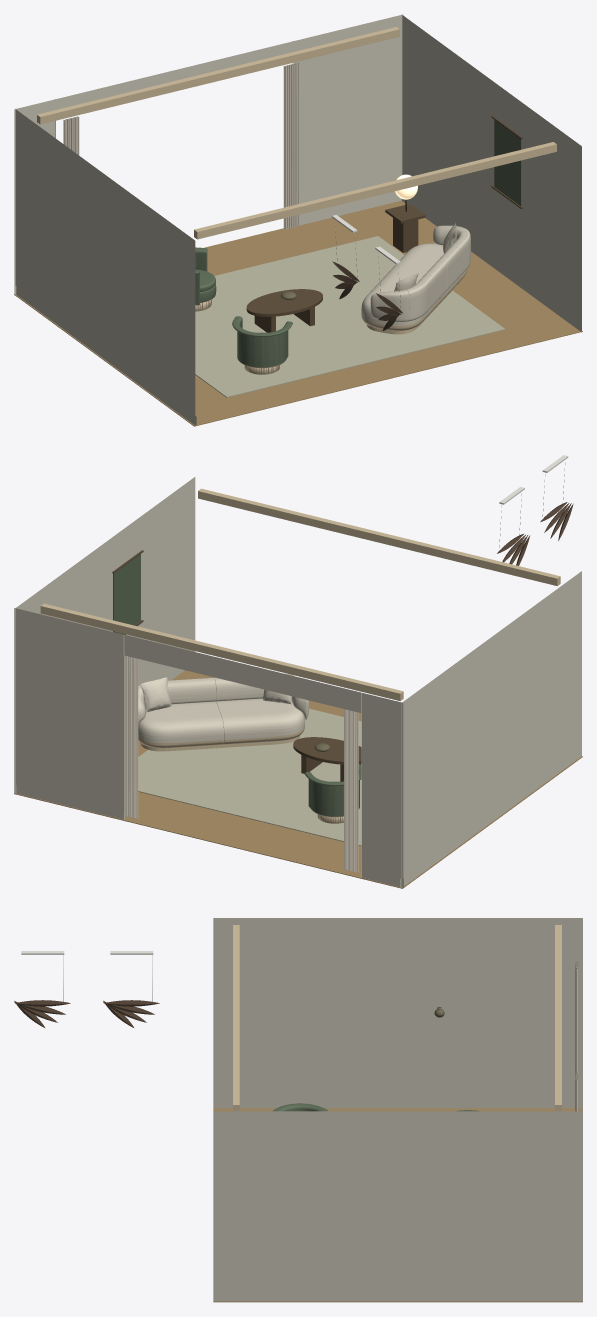
The model's file is great-1.glb.
3 renders of one model, top to bottom at view 1: azimuth 30°, elevation 25°; view 2: azimuth 150°, elevation 25°; view 3: azimuth 270°, elevation 25°, orthographic. The views are drawn at different scales.
Parts seen in each view (by area): view 1: DESIGN | great removable wall finish, DESIGN | Great room primary ground, DESIGN | great floor finish, DESIGN | Great room sofa facing conversation, DESIGN | Garden salon perimeter timber.001, DESIGN | Garden salon perimeter timber, DESIGN | Great room soft window edge.001, DESIGN | Required Bellustar swivel chair one, DESIGN | Great room linen hanging, DESIGN | R7 low conversation table, DESIGN | Required Bellustar swivel chair two, DESIGN | Side reading perch base (+1 smaller); view 2: DESIGN | great removable wall finish, DESIGN | Great room primary ground, DESIGN | Great room sofa facing conversation, DESIGN | great floor finish, DESIGN | Garden salon perimeter timber.001, DESIGN | Garden salon perimeter timber, DESIGN | Great room soft window edge, DESIGN | Great room soft window edge.001, DESIGN | Great room linen hanging, DESIGN | Required Bellustar swivel chair two, DESIGN | R7 low conversation table, DESIGN | Required Flou pendant 1; view 3: DESIGN | great removable wall finish, DESIGN | great floor finish, DESIGN | Garden salon perimeter timber, DESIGN | Garden salon perimeter timber.001, DESIGN | Required Flou pendant 2, DESIGN | Required Flou pendant 1.
Boxes of the visible parts, x1=… form: DESIGN | great removable wall finish: x1=14, y1=14, x2=581, y2=425; DESIGN | Great room primary ground: x1=195, y1=236, x2=505, y2=397; DESIGN | great floor finish: x1=14, y1=200, x2=582, y2=426; DESIGN | Great room sofa facing conversation: x1=361, y1=222, x2=470, y2=334; DESIGN | Garden salon perimeter timber.001: x1=37, y1=27, x2=399, y2=124; DESIGN | Garden salon perimeter timber: x1=194, y1=142, x2=556, y2=239; DESIGN | Great room soft window edge.001: x1=283, y1=62, x2=299, y2=229; DESIGN | Required Bellustar swivel chair one: x1=232, y1=316, x2=292, y2=374; DESIGN | Great room linen hanging: x1=494, y1=120, x2=521, y2=206; DESIGN | R7 low conversation table: x1=246, y1=289, x2=322, y2=316; DESIGN | Required Bellustar swivel chair two: x1=195, y1=247, x2=216, y2=311; DESIGN | Side reading perch base: x1=393, y1=218, x2=418, y2=252; DESIGN | great removable wall finish: x1=14, y1=477, x2=581, y2=887; DESIGN | Great room primary ground: x1=138, y1=708, x2=361, y2=846; DESIGN | Great room sofa facing conversation: x1=138, y1=673, x2=309, y2=751; DESIGN | great floor finish: x1=14, y1=670, x2=582, y2=888; DESIGN | Garden salon perimeter timber.001: x1=40, y1=603, x2=403, y2=700; DESIGN | Garden salon perimeter timber: x1=198, y1=488, x2=560, y2=586; DESIGN | Great room soft window edge: x1=344, y1=709, x2=358, y2=873; DESIGN | Great room soft window edge.001: x1=124, y1=655, x2=138, y2=819; DESIGN | Great room linen hanging: x1=113, y1=554, x2=140, y2=634; DESIGN | Required Bellustar swivel chair two: x1=304, y1=764, x2=361, y2=823; DESIGN | R7 low conversation table: x1=293, y1=737, x2=361, y2=764; DESIGN | Required Flou pendant 1: x1=540, y1=502, x2=573, y2=540; DESIGN | great removable wall finish: x1=213, y1=918, x2=582, y2=1301; DESIGN | great floor finish: x1=213, y1=1108, x2=582, y2=1302; DESIGN | Garden salon perimeter timber: x1=233, y1=925, x2=239, y2=1111; DESIGN | Garden salon perimeter timber.001: x1=555, y1=925, x2=561, y2=1111; DESIGN | Required Flou pendant 2: x1=103, y1=1000, x2=159, y2=1027; DESIGN | Required Flou pendant 1: x1=14, y1=1000, x2=70, y2=1028.
Bounding box in the file's own units: 6 × 3.04 × 7.42.
